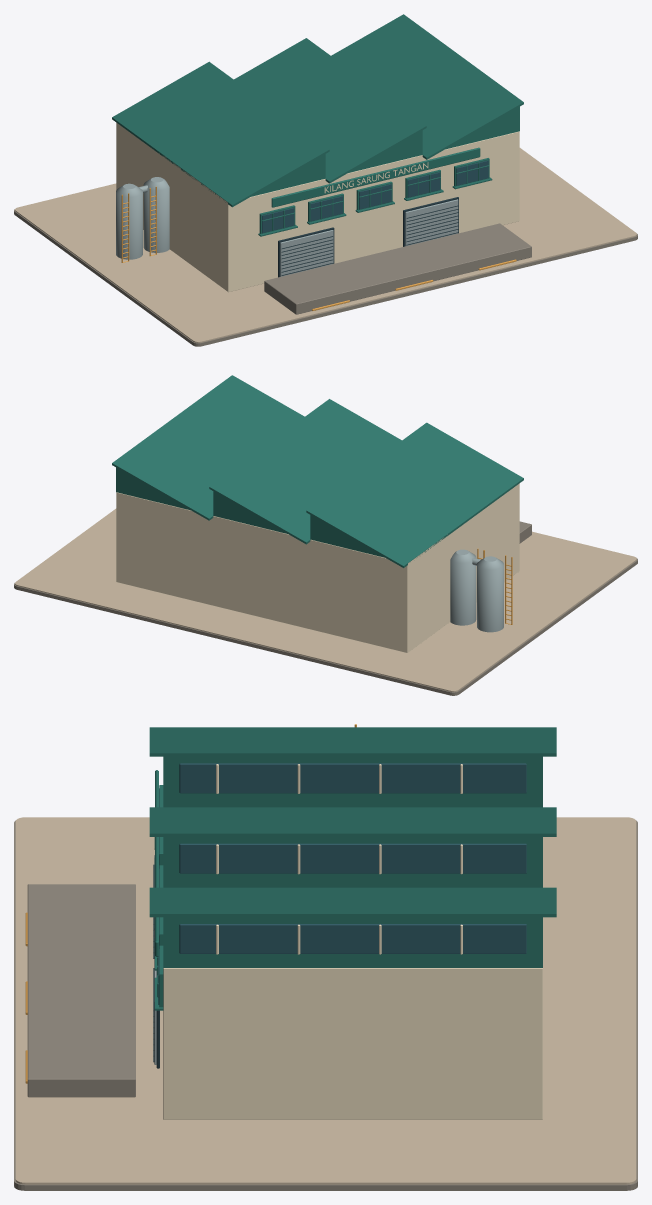
The picture shows the model from 3 angles, top to bottom: view 1: azimuth 30°, elevation 25°; view 2: azimuth 150°, elevation 25°; view 3: azimuth 270°, elevation 25°; orthographic projection. The views are drawn at different scales.
Visible parts, largest first — view 1: Sawtooth Roof, Production Hall, Factory Yard, Loading Dock, Process Tanks; view 2: Sawtooth Roof, Production Hall, Factory Yard, Process Tanks; view 3: Sawtooth Roof, Factory Yard, Production Hall, Loading Dock.
Part boxes in pixels (x1=…): Sawtooth Roof: x1=112, y1=14, x2=523, y2=207; Production Hall: x1=116, y1=123, x2=519, y2=292; Factory Yard: x1=14, y1=148, x2=637, y2=346; Loading Dock: x1=264, y1=223, x2=531, y2=314; Process Tanks: x1=116, y1=177, x2=169, y2=262; Sawtooth Roof: x1=112, y1=375, x2=523, y2=567; Production Hall: x1=116, y1=483, x2=519, y2=652; Factory Yard: x1=14, y1=508, x2=637, y2=695; Process Tanks: x1=450, y1=548, x2=512, y2=632; Sawtooth Roof: x1=149, y1=727, x2=556, y2=967; Factory Yard: x1=14, y1=817, x2=637, y2=1190; Production Hall: x1=153, y1=770, x2=542, y2=1119; Loading Dock: x1=25, y1=884, x2=135, y2=1097.
Size of the model in its own units: 32 by 8.7 by 23.
